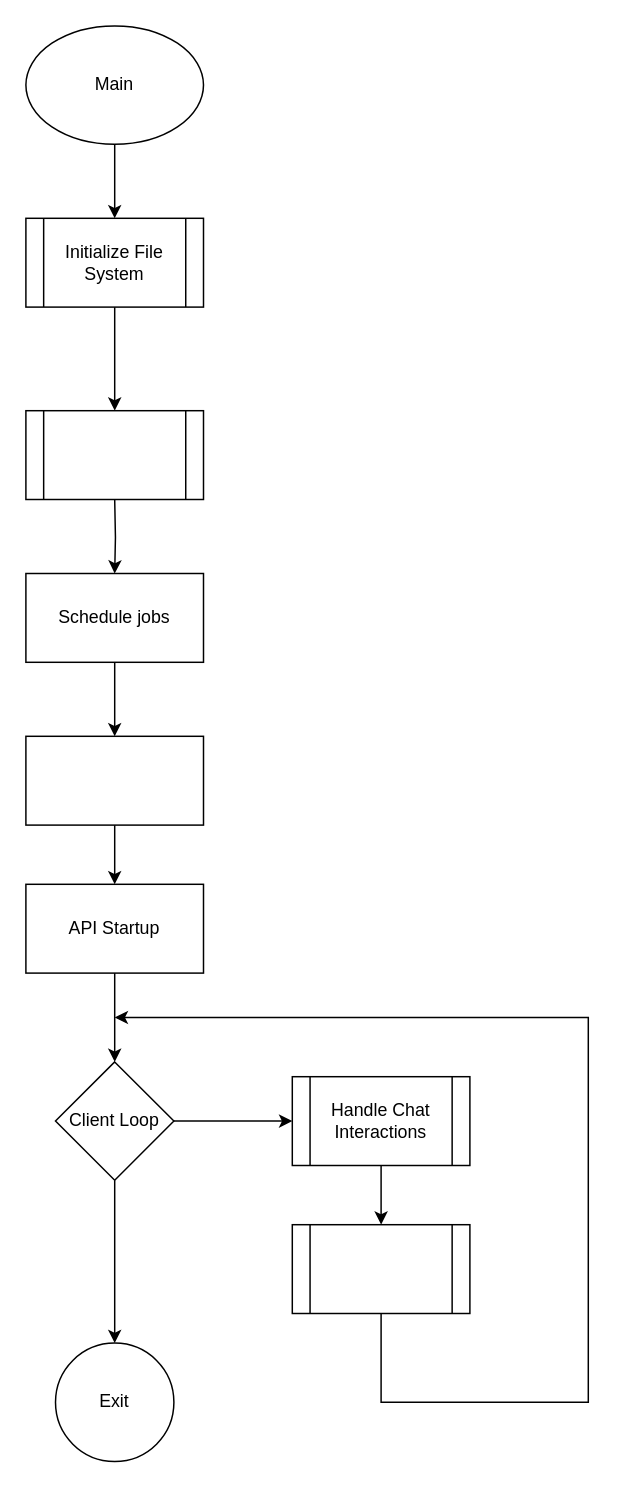
The diagram is 626 pixels wide and 1487 high, and some of its shapes have lost their labels. The shapes that lost their labels are listed below. From the top down, each one's centre as x and y in pixels, then its label:
At (x=114, y=454): "Load Cache".
At (x=114, y=780): "Bot Client Login".
At (x=380, y=1268): "Handle API Calls".
